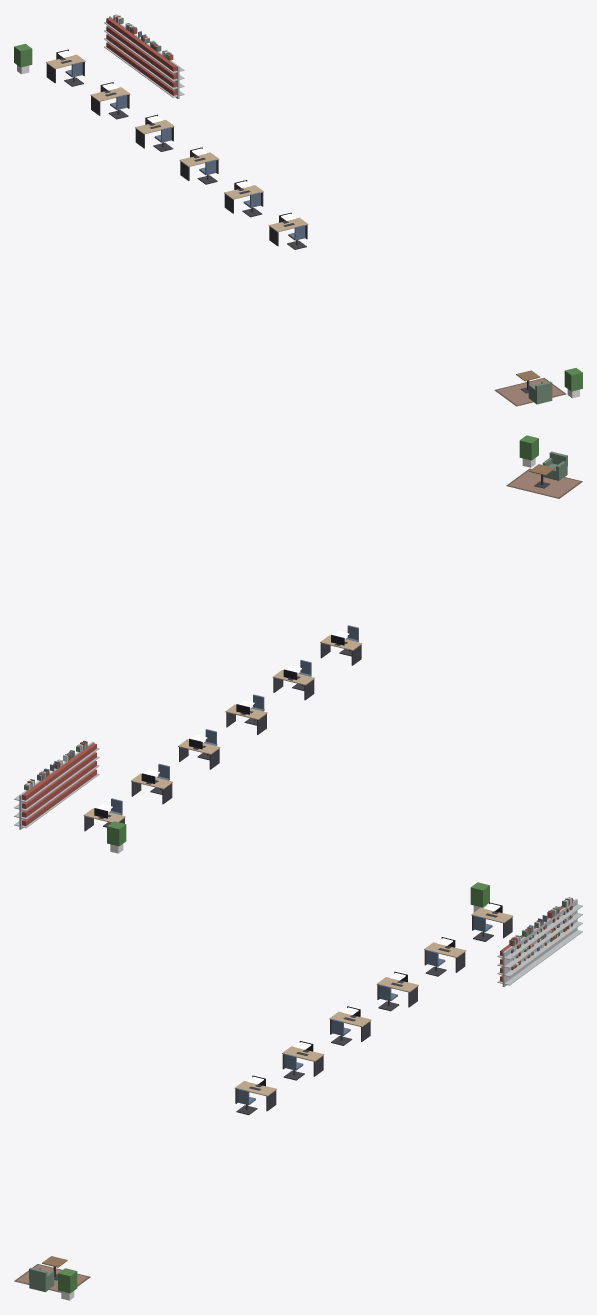
File: fine-s1.glb
3 views of the same model, one above another, from view 1: azimuth 30°, elevation 25°; view 2: azimuth 150°, elevation 25°; view 3: azimuth 330°, elevation 25° (orthographic). The views are drawn at different scales.
Visible parts, largest first — view 1: soft-s1, shelving.004, shelving.000, shelving.002, shelving.003, office-desk-real.001, office-desk-real.004, shelving.001, office-desk-real.002, office-desk-real.003, office-desk-real.000, office-desk-real.005; view 2: soft-s1, shelving.000, office-desk-real.005, office-desk-real.004, office-desk-real.001, shelving.003, shelving.002, office-desk-real.002, office-desk-real.003, shelving.001, shelving.004, plant-medium.000 (+2 smaller); view 3: soft-s1, shelving.004, shelving.000, office-desk-real.004, office-desk-real.001, office-desk-real.005, office-desk-real.002, office-desk-real.003, shelving.001, office-desk-real.000, shelving.003, plant-medium.000.
Part boxes in pixels (left/top/right/bottom): soft-s1: left=113, top=14, right=566, bottom=406; shelving.004: left=153, top=52, right=184, bottom=98; shelving.000: left=104, top=16, right=127, bottom=61; shelving.002: left=128, top=34, right=151, bottom=79; shelving.003: left=140, top=43, right=163, bottom=88; office-desk-real.001: left=90, top=82, right=129, bottom=115; office-desk-real.004: left=224, top=180, right=263, bottom=213; shelving.001: left=116, top=25, right=140, bottom=70; office-desk-real.002: left=135, top=114, right=174, bottom=148; office-desk-real.003: left=179, top=147, right=219, bottom=180; office-desk-real.000: left=46, top=49, right=85, bottom=83; office-desk-real.005: left=268, top=212, right=308, bottom=246; soft-s1: left=24, top=468, right=582, bottom=790; shelving.000: left=14, top=780, right=47, bottom=829; office-desk-real.005: left=320, top=635, right=362, bottom=665; office-desk-real.004: left=272, top=669, right=314, bottom=700; office-desk-real.001: left=131, top=773, right=172, bottom=804; shelving.003: left=62, top=752, right=86, bottom=798; shelving.002: left=50, top=762, right=73, bottom=808; office-desk-real.002: left=178, top=738, right=220, bottom=769; office-desk-real.003: left=225, top=704, right=267, bottom=734; shelving.001: left=35, top=770, right=60, bottom=816; shelving.004: left=75, top=741, right=99, bottom=789; plant-medium.000: left=519, top=435, right=538, bottom=467; soft-s1: left=14, top=897, right=572, bottom=1292; shelving.004: left=497, top=937, right=530, bottom=986; shelving.000: left=556, top=899, right=582, bottom=946; office-desk-real.004: left=282, top=1041, right=324, bottom=1076; office-desk-real.001: left=424, top=937, right=466, bottom=972; office-desk-real.005: left=234, top=1075, right=276, bottom=1111; office-desk-real.002: left=376, top=971, right=418, bottom=1007; office-desk-real.003: left=329, top=1006, right=371, bottom=1041; shelving.001: left=543, top=909, right=569, bottom=956; office-desk-real.000: left=471, top=902, right=513, bottom=938; shelving.003: left=518, top=928, right=543, bottom=975; plant-medium.000: left=58, top=1268, right=77, bottom=1300.
Bounding box in the file's own units: 5.2 × 1.93 × 42.75.
